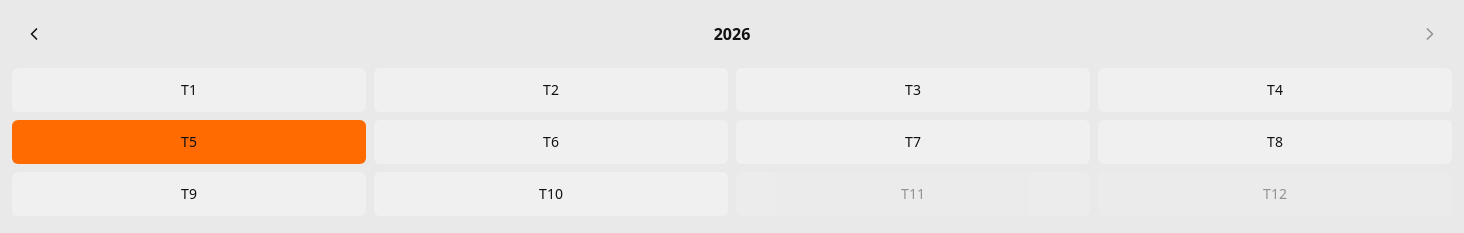
Test: MonthPicker › nút năm dừng ở năm của min và max
This screenshot has width=1464, height=233.
Expected: the button named "Năm sau" is disabled, 1408,12 -> 1452,56
What coordinates should you click on to do the following:
click the button named "Năm trước"
I would click on:
 (34, 34)
Its box is 12,12 -> 56,56.
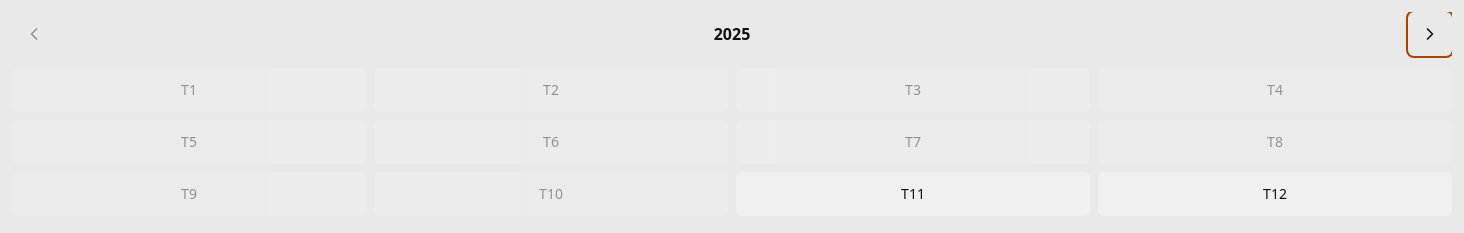
Expected: the button named "Năm sau" is enabled, 1408,12 -> 1452,56
Now the button named "Tháng 10/2025" is disabled, box 374,172 -> 728,216
Now the button named "Tháng 11/2025" is enabled, box 736,172 -> 1090,216
